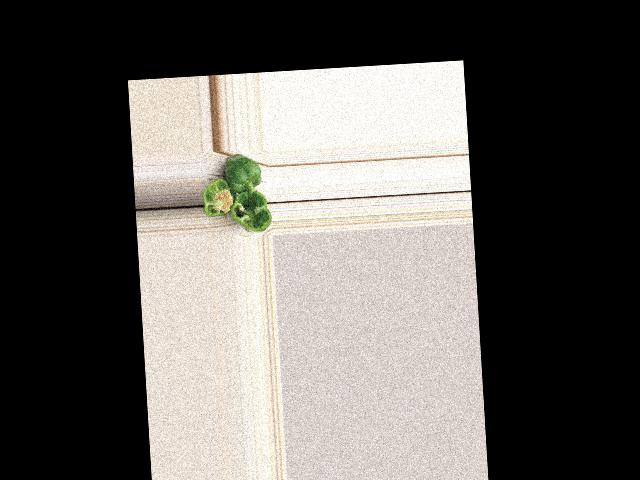bell_pepper: (201, 175, 237, 225)
